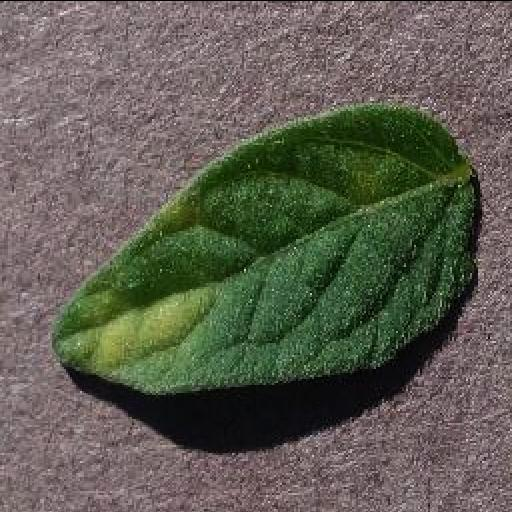disease_tomato: (48, 100, 480, 392)
